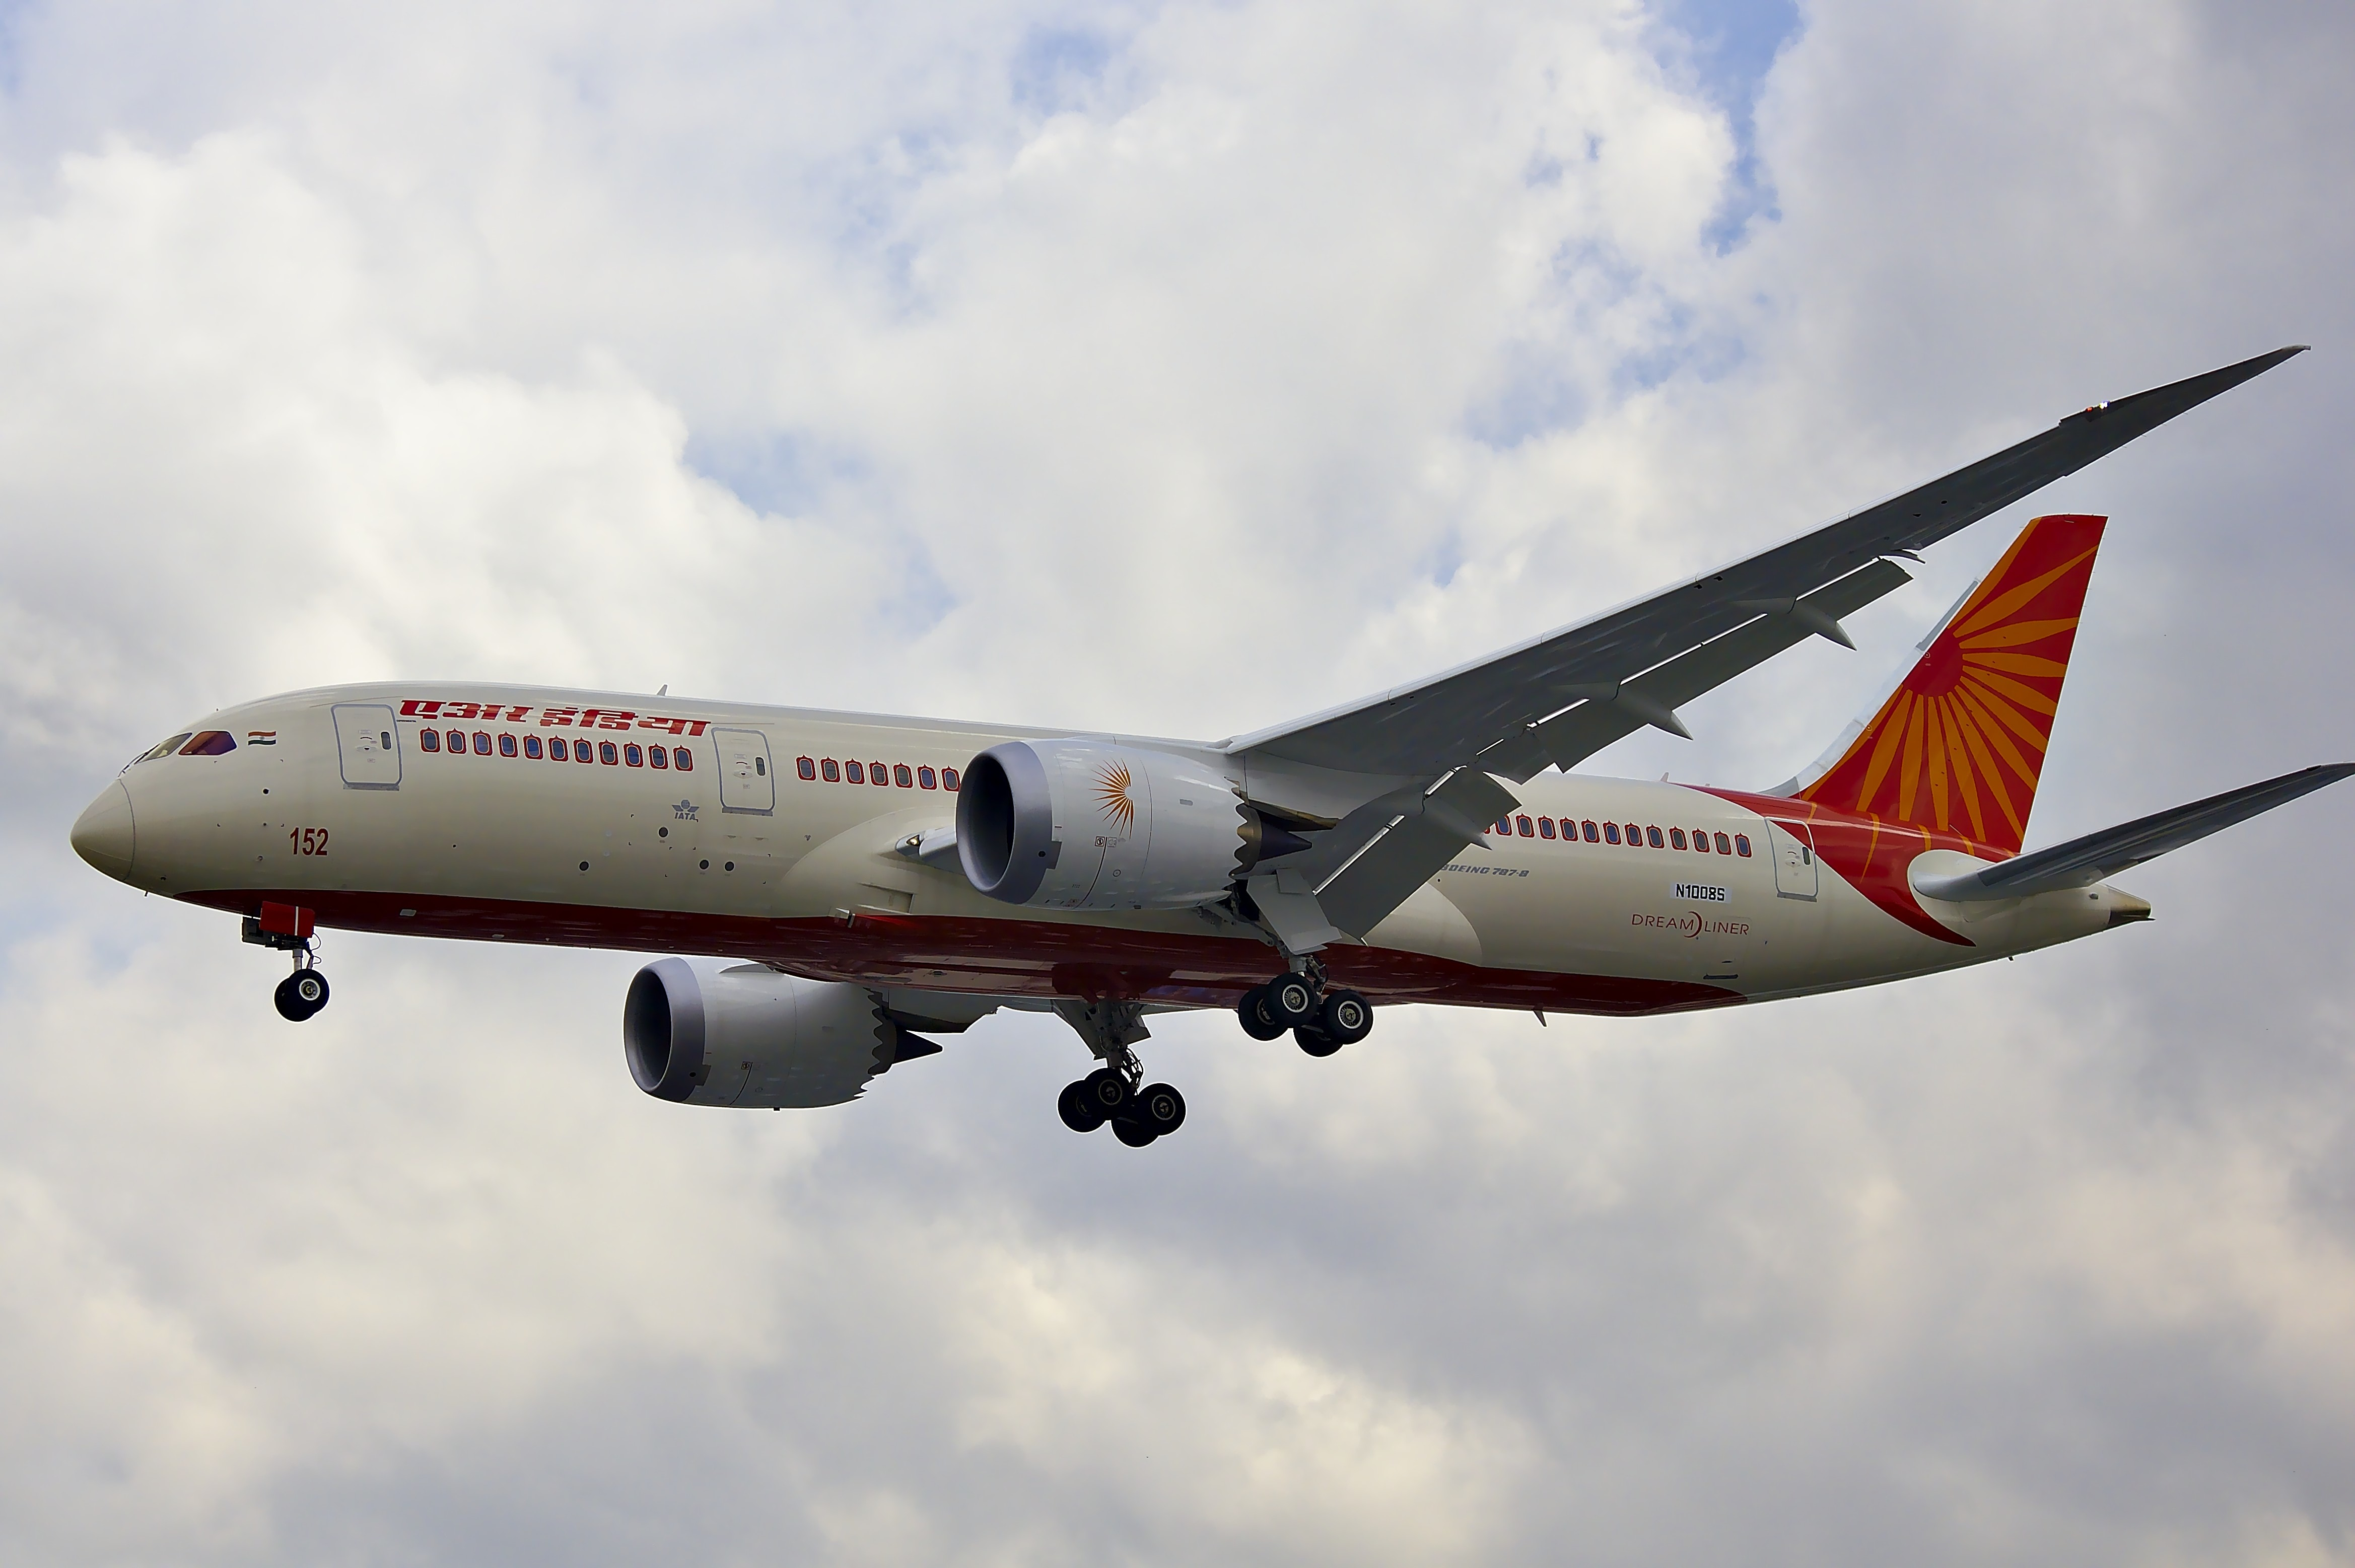airplane: (28, 75, 2350, 1277)
